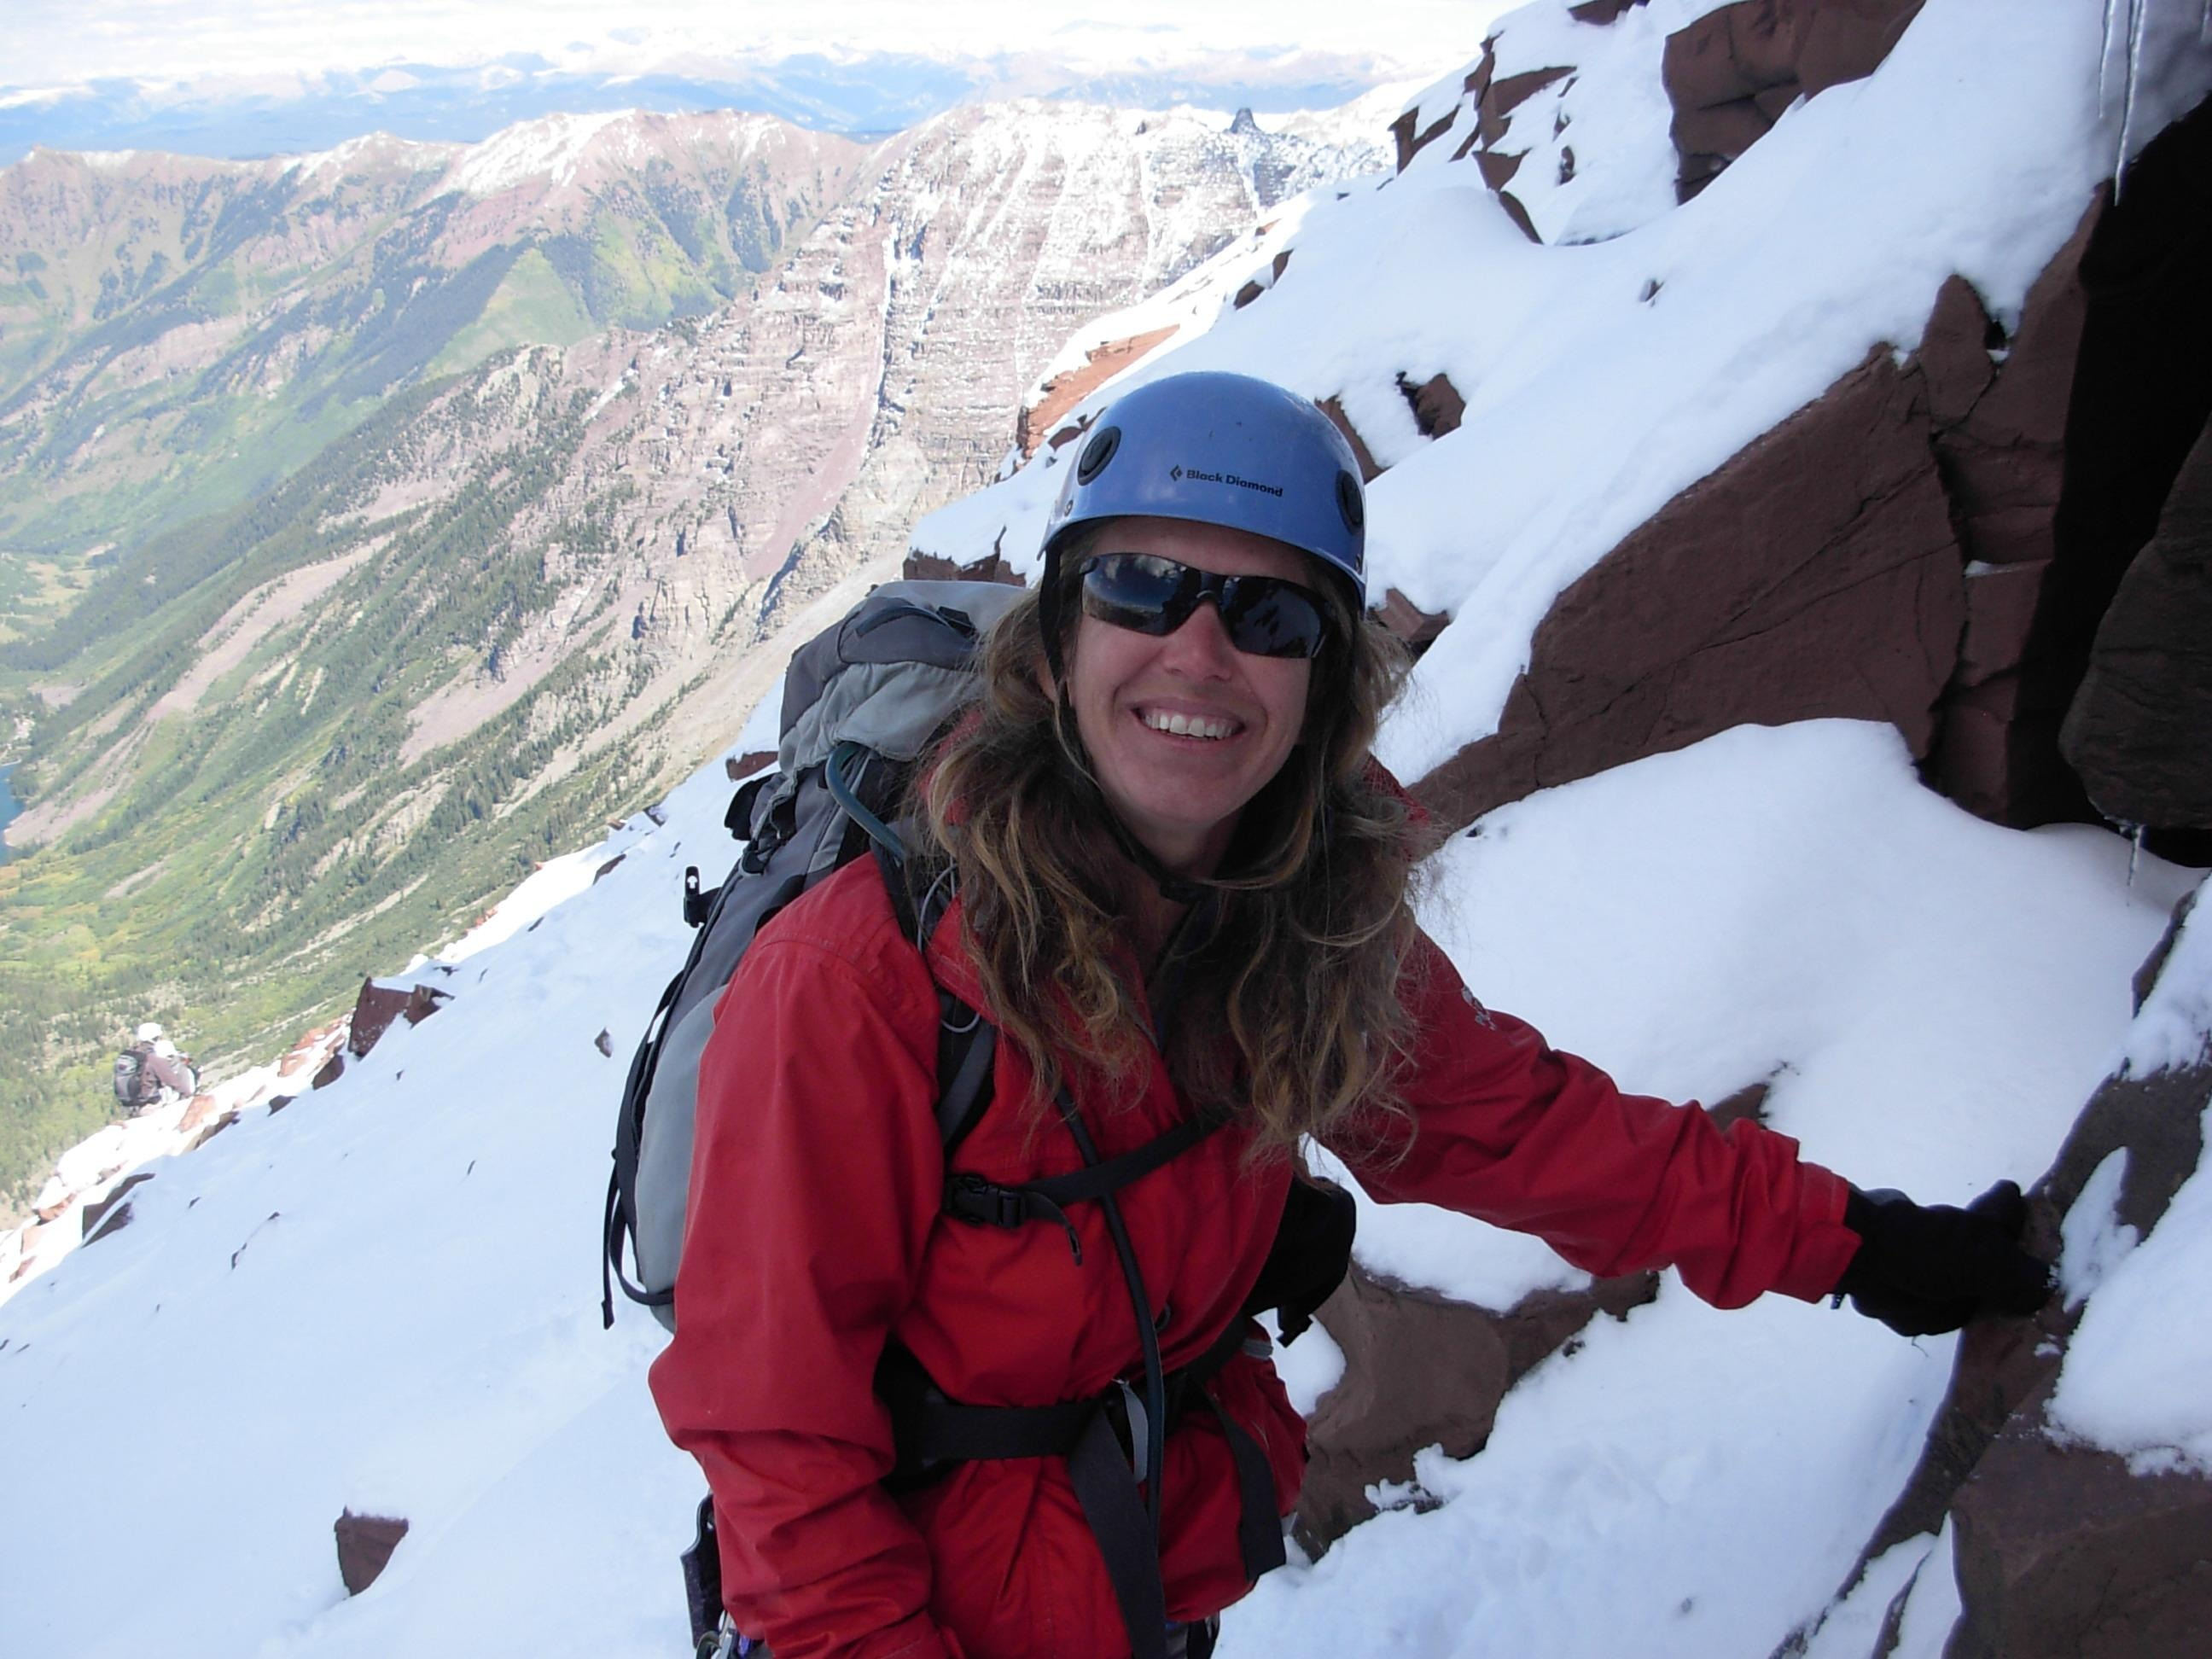helmet: (1028, 368, 1379, 608)
